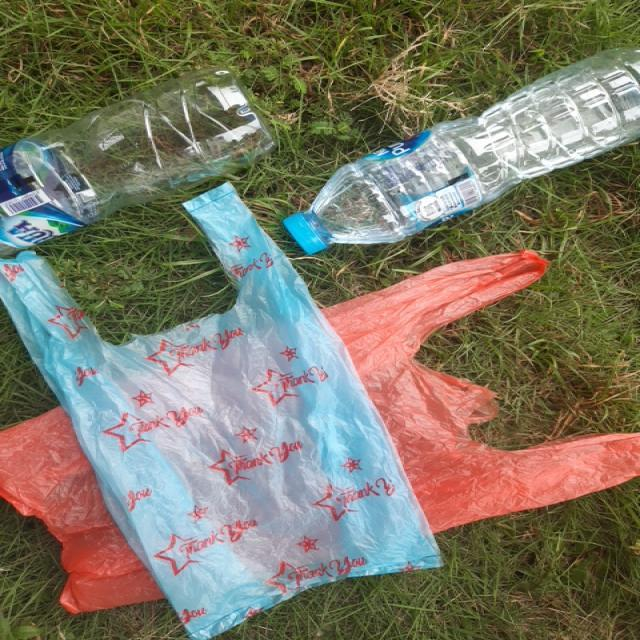Single-layer Plastic: (3, 229, 640, 624), (0, 168, 466, 637)
